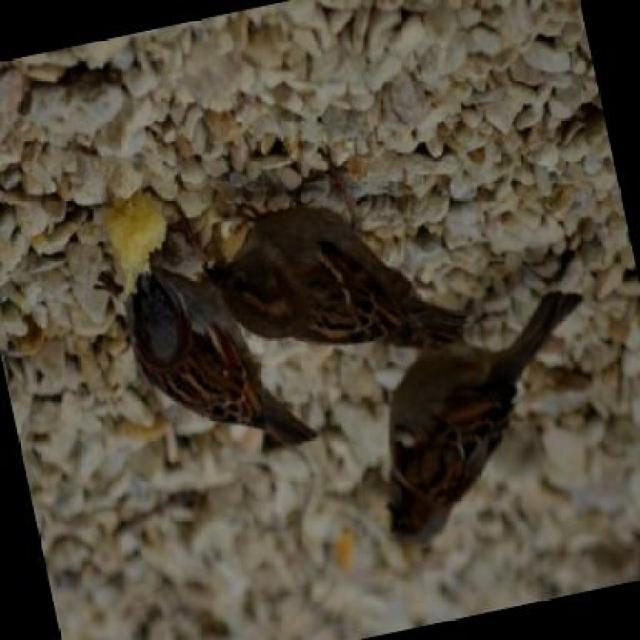sparrow: (344, 281, 627, 545), (195, 169, 474, 391), (121, 242, 319, 476)
